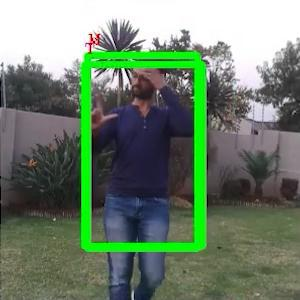land_hand: (79, 84, 121, 134)
